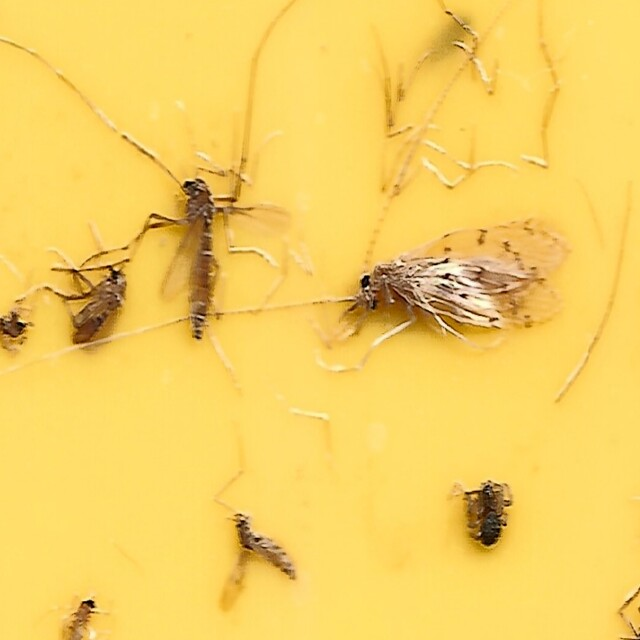Araneae: (465, 474, 511, 548)
Nematocera: (158, 169, 282, 346), (61, 246, 131, 362)
Plecoptera: (260, 92, 579, 343)
